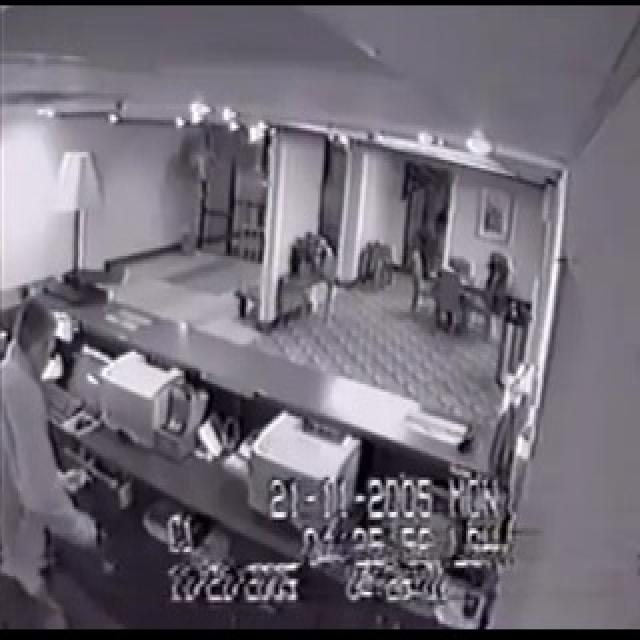thief: (11, 307, 110, 629)
